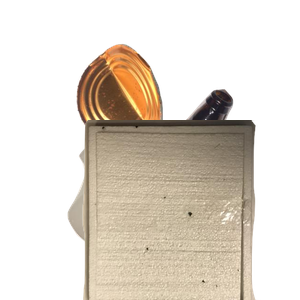glass: (130, 87, 300, 267)
metal: (74, 41, 229, 181)
plastic: (65, 123, 257, 300)
trash: (80, 120, 300, 300)
